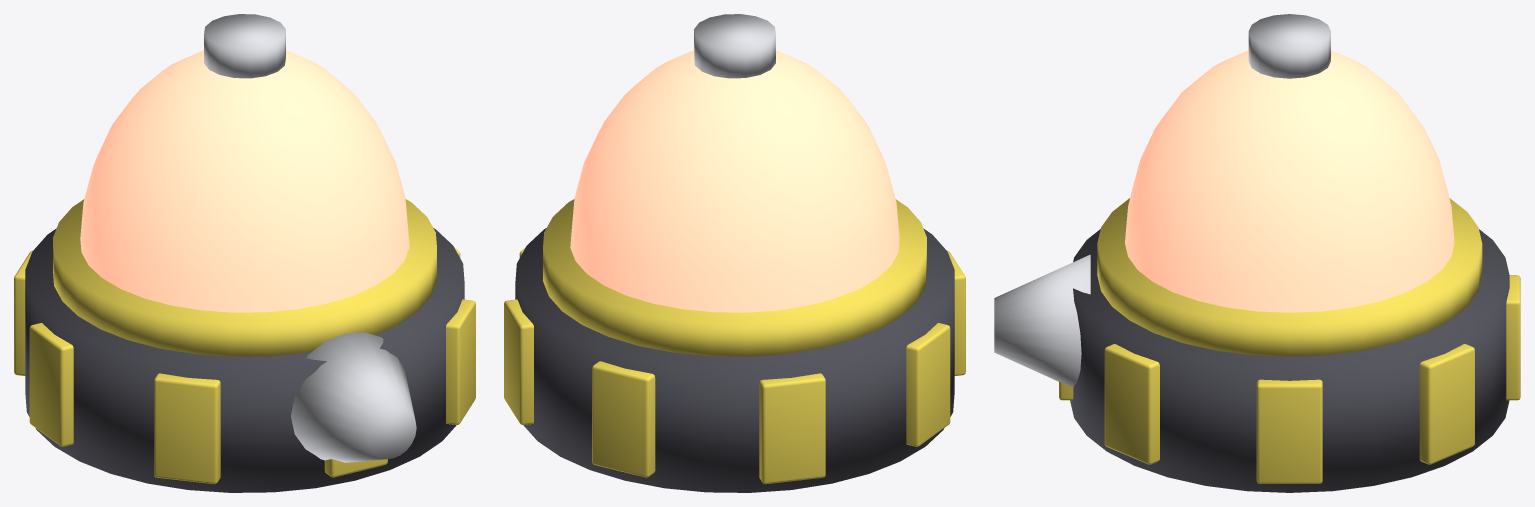
Rendered from ITEM_NoiseBomb.fbx.
3 views of the same model, side by side, from view 1: azimuth 30°, elevation 25°; view 2: azimuth 150°, elevation 25°; view 3: azimuth 270°, elevation 25° (orthographic).
Visible parts, largest first — view 1: ITEM_NoiseBomb; view 2: ITEM_NoiseBomb; view 3: ITEM_NoiseBomb.
Part boxes in pixels (box(x1,y1,x2,y2)): ITEM_NoiseBomb: box(14, 14, 475, 492); ITEM_NoiseBomb: box(504, 14, 965, 492); ITEM_NoiseBomb: box(994, 14, 1520, 492).
Bounding box in the file's own units: 16.8 × 14.8 × 19.15.
